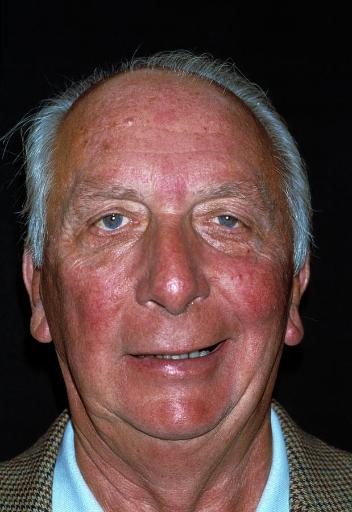left_eye: (199, 207, 254, 238)
left_lip_corner: (215, 336, 234, 357)
right_eye: (86, 209, 146, 234)
right_lip_corner: (121, 345, 134, 363)
